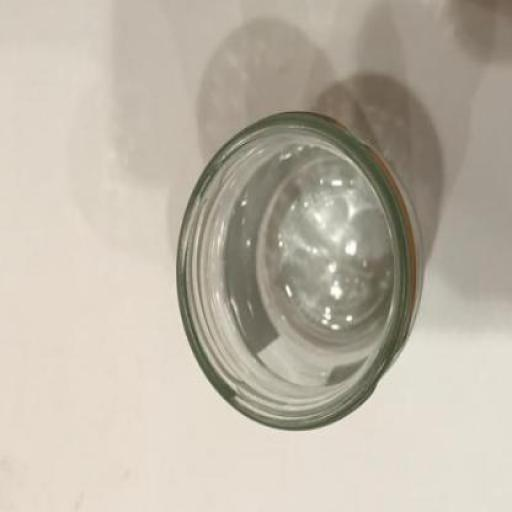glass: (177, 114, 422, 431)
